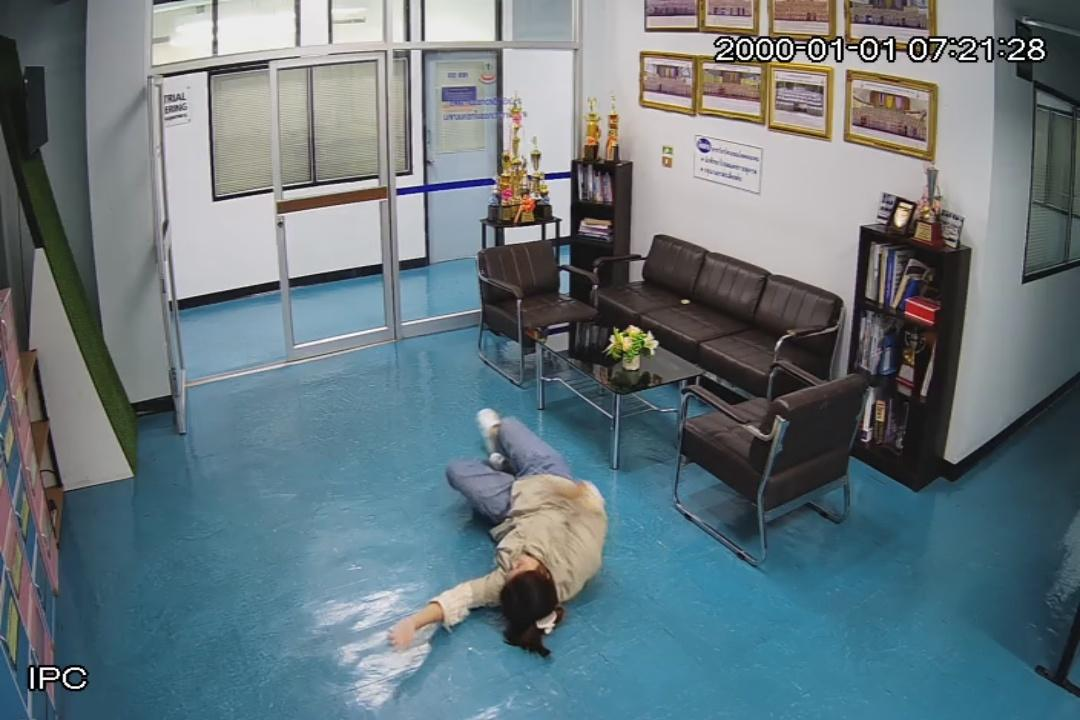fall: (394, 404, 608, 648)
